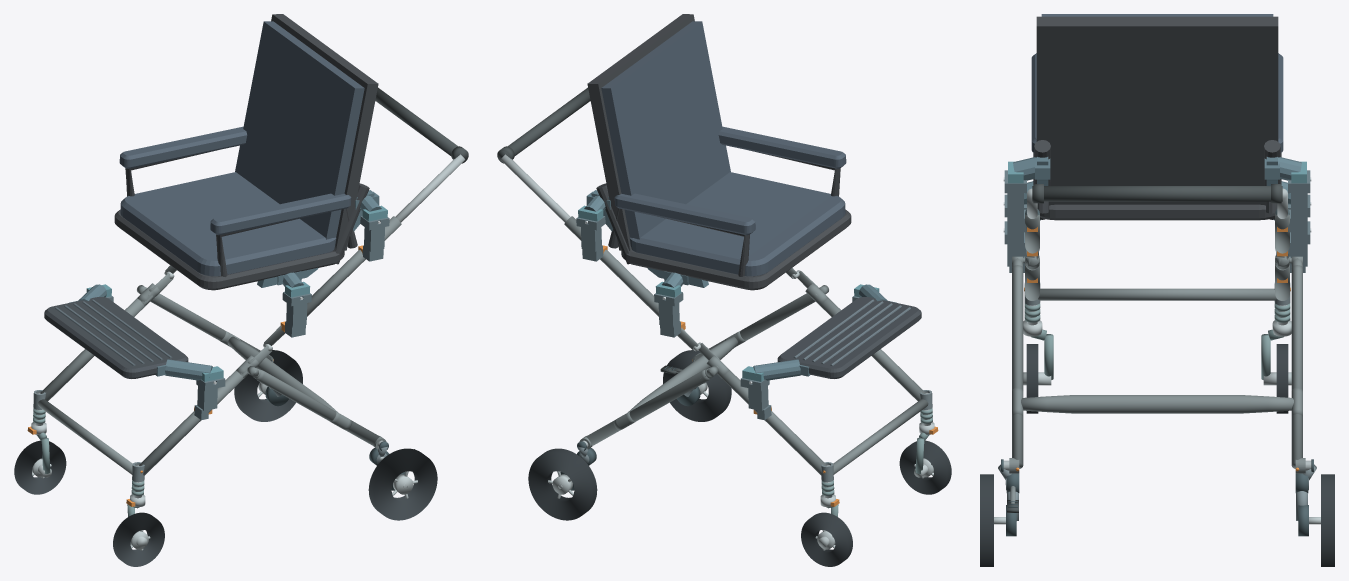
The model's file is S09_w650_state1_wheel_S.glb.
The picture shows the model from 3 angles, left to right: view 1: azimuth 30°, elevation 25°; view 2: azimuth 150°, elevation 25°; view 3: azimuth 270°, elevation 25°; orthographic projection. The views are drawn at different scales.
Parts seen in each view (by area): view 1: S09_Cabin, S09_Cabin_Footrest, RL_tire.008, RR_tire.008, FL_tire.008, FR_tire.008, V46_rear_leg_-1.009, S09_Cabin_Footrest_LowDocks, main_lower_-1.009, round_handle.008, front_fixed_round_tube.008, main_upper_-1.009 (+9 smaller); view 2: S09_Cabin, S09_Cabin_Footrest, RR_tire.008, FR_tire.008, RL_tire.008, FL_tire.008, V46_rear_leg_1.009, S09_Cabin_Footrest_LowDocks, main_lower_1.009, round_handle.008, front_fixed_round_tube.008, main_upper_1.009 (+9 smaller); view 3: S09_Cabin, V46_rearbar.009, round_handle.008, front_fixed_round_tube.008, V46_rear_leg_1.009, V46_rear_leg_-1.009, S09_Cabin_HighDocks, RL_tire.008, RR_tire.008, Universal_Cabin_Receiver_H_1, Universal_Cabin_Receiver_H_-1, FL_tire.008 (+5 smaller).
Part boxes in pixels (box(x1,y1,x2,y2)): S09_Cabin: box(114, 14, 378, 290); S09_Cabin_Footrest: box(44, 297, 188, 378); RL_tire.008: box(368, 448, 437, 520); RR_tire.008: box(234, 350, 302, 421); FL_tire.008: box(113, 512, 164, 566); FR_tire.008: box(14, 440, 66, 494); V46_rear_leg_-1.009: box(255, 369, 379, 445); S09_Cabin_Footrest_LowDocks: box(69, 284, 223, 384); main_lower_-1.009: box(139, 370, 247, 475); round_handle.008: box(375, 87, 467, 162); front_fixed_round_tube.008: box(37, 399, 132, 474); main_upper_-1.009: box(285, 216, 401, 322); S09_Cabin: box(587, 14, 851, 290); S09_Cabin_Footrest: box(777, 297, 921, 378); RR_tire.008: box(528, 448, 597, 520); FR_tire.008: box(801, 512, 852, 566); RL_tire.008: box(663, 350, 731, 421); FL_tire.008: box(899, 440, 951, 494); V46_rear_leg_1.009: box(586, 369, 710, 445); S09_Cabin_Footrest_LowDocks: box(742, 284, 896, 384); main_lower_1.009: box(718, 370, 826, 475); round_handle.008: box(498, 87, 590, 162); front_fixed_round_tube.008: box(833, 399, 928, 474); main_upper_1.009: box(564, 216, 680, 322); S09_Cabin: box(1031, 14, 1283, 220); V46_rearbar.009: box(1021, 395, 1293, 413); round_handle.008: box(1032, 186, 1282, 201); front_fixed_round_tube.008: box(1038, 288, 1276, 300); V46_rear_leg_1.009: box(1291, 265, 1302, 468); V46_rear_leg_-1.009: box(1012, 265, 1023, 468); S09_Cabin_HighDocks: box(1003, 157, 1311, 183); RL_tire.008: box(980, 474, 993, 566); RR_tire.008: box(1321, 474, 1334, 566); Universal_Cabin_Receiver_H_1: box(1288, 170, 1310, 232); Universal_Cabin_Receiver_H_-1: box(1004, 170, 1026, 232); FL_tire.008: box(1026, 344, 1038, 413).
Size of the model in its own units: 1.12 by 1.28 by 0.766.
